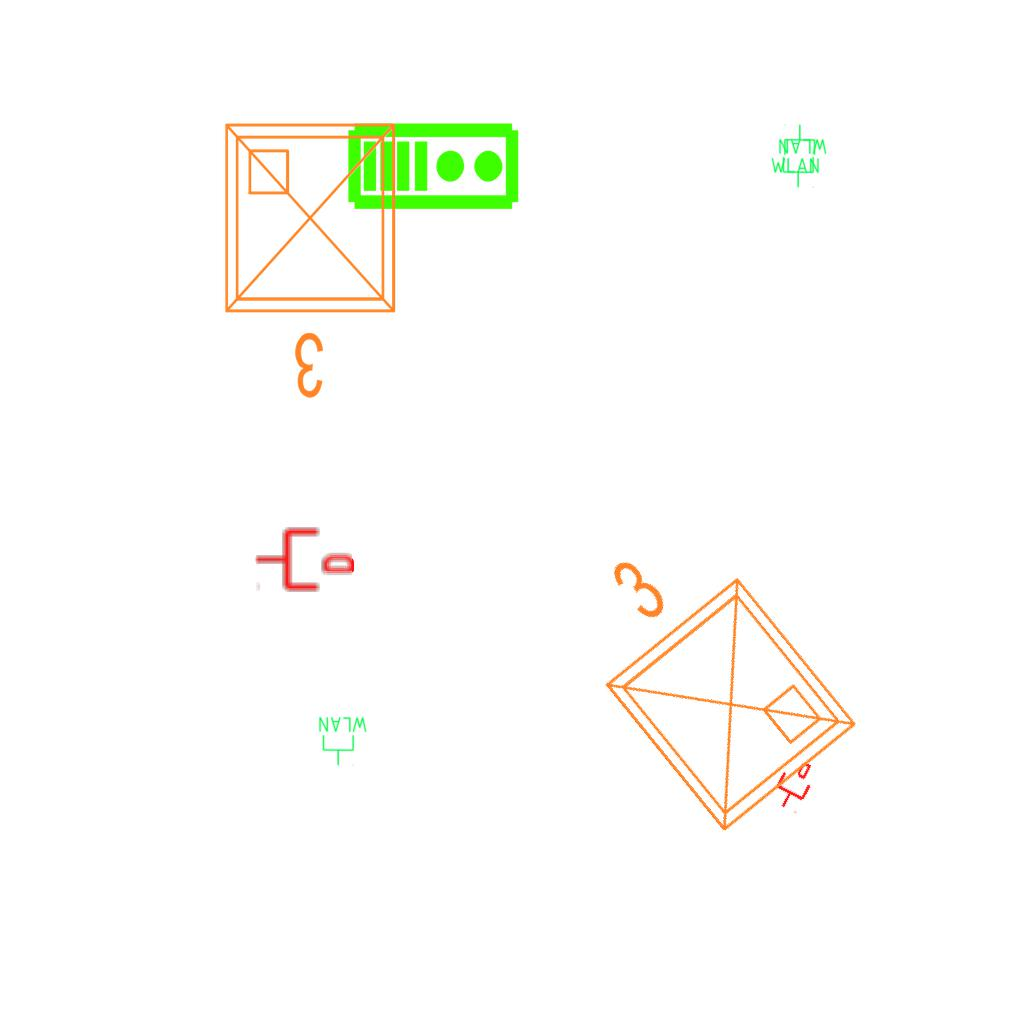Datenanschluss_einfach: (254, 525, 354, 594), (767, 755, 821, 815)
Einbaudownlights_LED_Konferenzraeume: (526, 492, 878, 858), (210, 109, 418, 409)
Gegensprechanlage_mit_Video: (346, 117, 522, 212)
WLAN: (317, 715, 369, 767), (769, 123, 821, 175), (777, 137, 829, 189)
